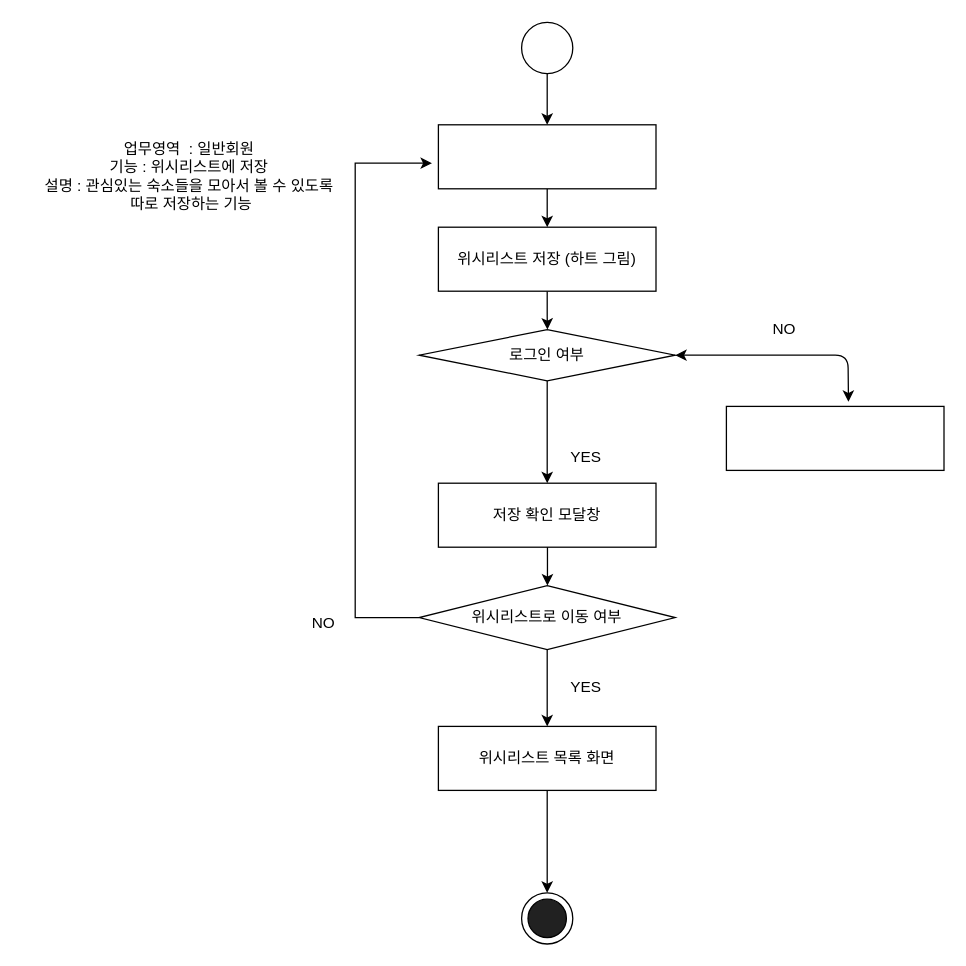
Some shapes in this 966 by 966 pixel diagram are drawn without their labels. The centre of each missing label's shape, as x and y in pixels:
로그인 처리: point (834, 437)
숙소 상세 화면: point (546, 156)
